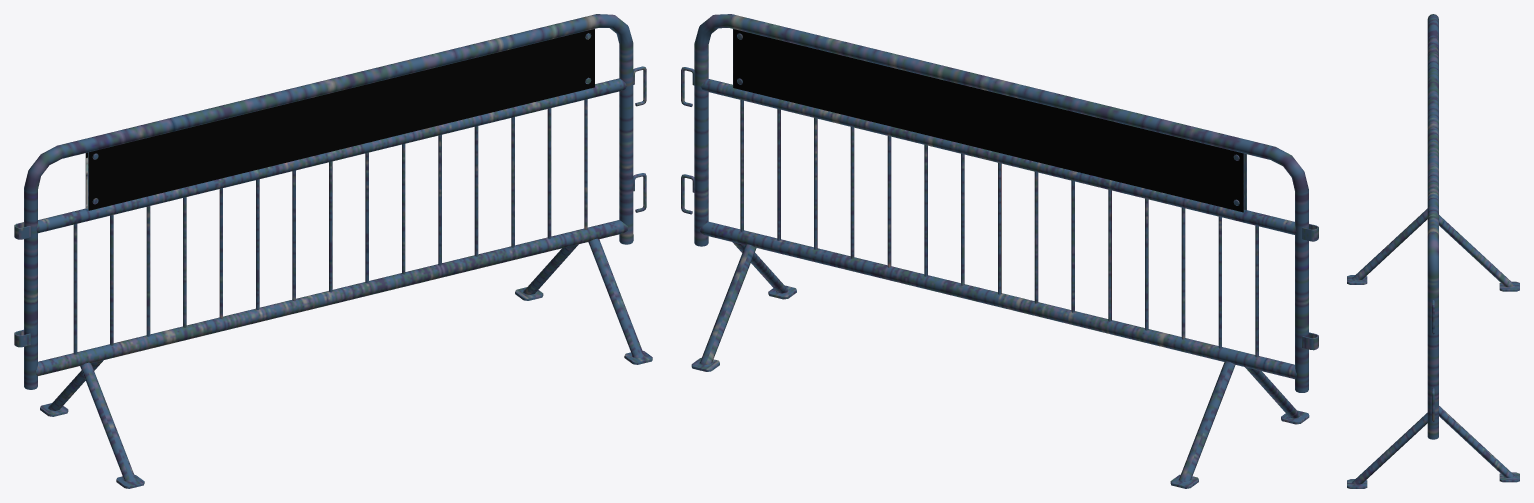
File: Transenna.fbx
3 views of the same model, side by side, from view 1: azimuth 30°, elevation 25°; view 2: azimuth 150°, elevation 25°; view 3: azimuth 270°, elevation 25° (orthographic). The views are drawn at different scales.
Visible parts, largest first — view 1: Transenna; view 2: Transenna; view 3: Transenna.
Part boxes in pixels (x1,y1,x2,y2): Transenna: (14,14,652,488); Transenna: (681,14,1318,488); Transenna: (1347,14,1519,488).
Size of the model in its own units: 259 by 121 by 74.67.
